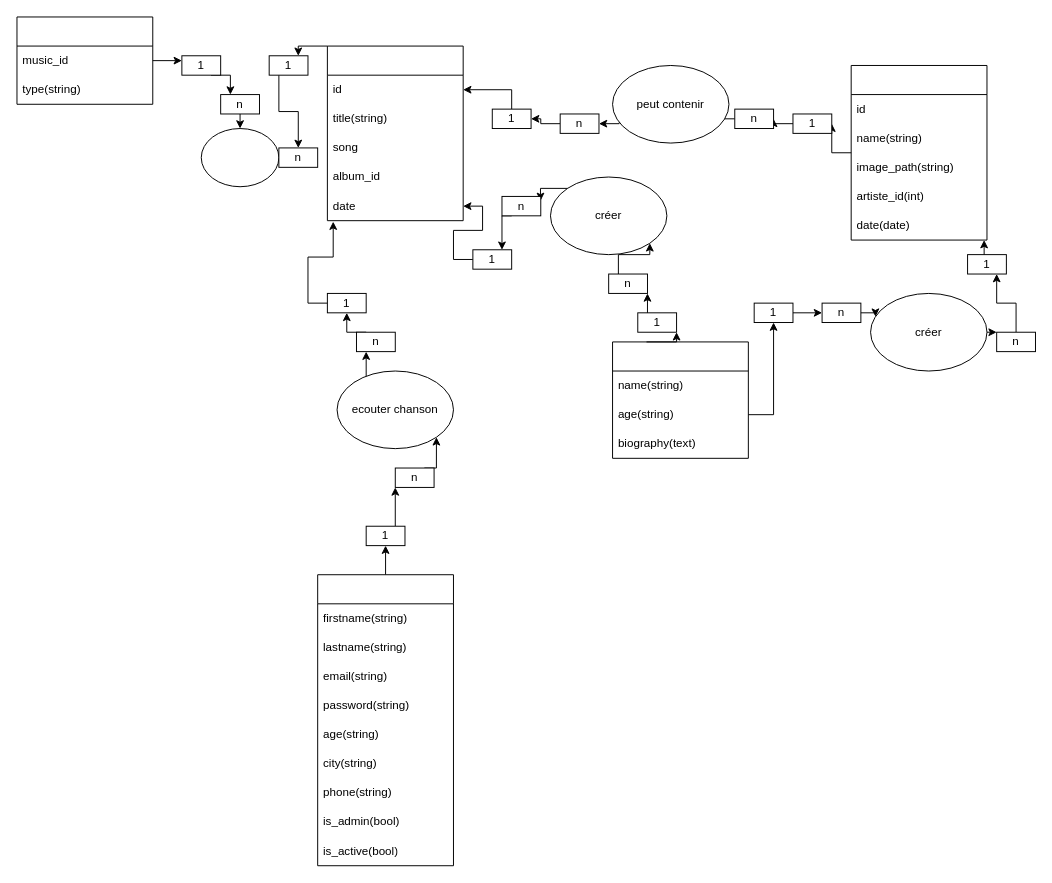
Some shapes in this 1052 by 883 pixel diagram are drawn without their labels. Here are the shapes that lost their labels. From the top down, the box of each, then its label:
(16, 16, 153, 104): categories
(326, 45, 463, 221): music
(850, 65, 987, 240): album
(200, 128, 279, 187): contien
(612, 341, 748, 458): artiste
(317, 574, 453, 866): user
